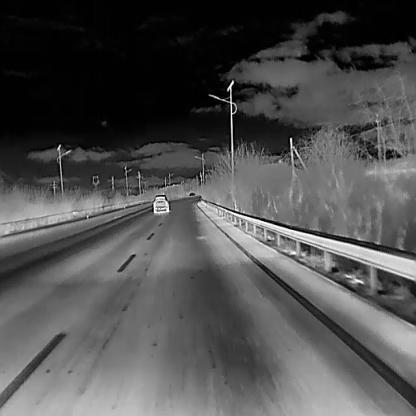car: (151, 194, 168, 213)
